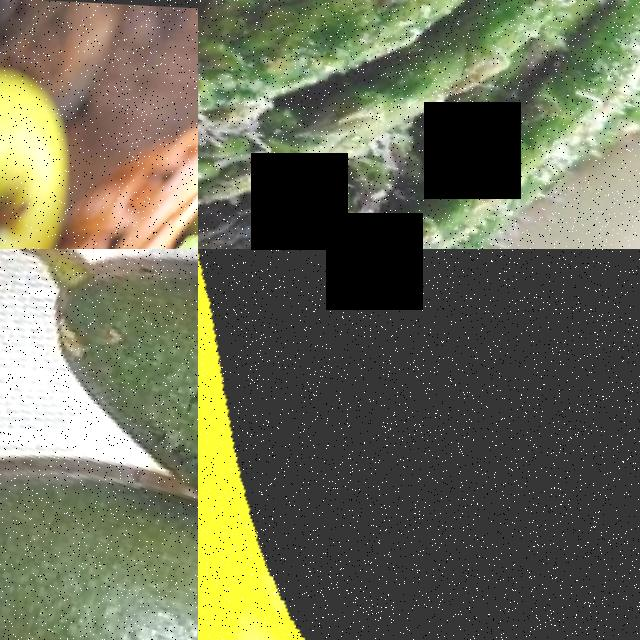apple: (0, 38, 127, 249)
avocado: (5, 249, 198, 595), (0, 422, 198, 640)
banana: (198, 249, 640, 640)
